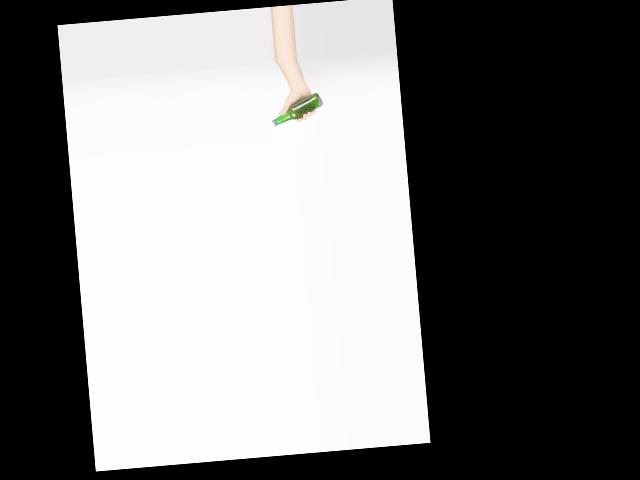beer: (270, 92, 324, 126)
